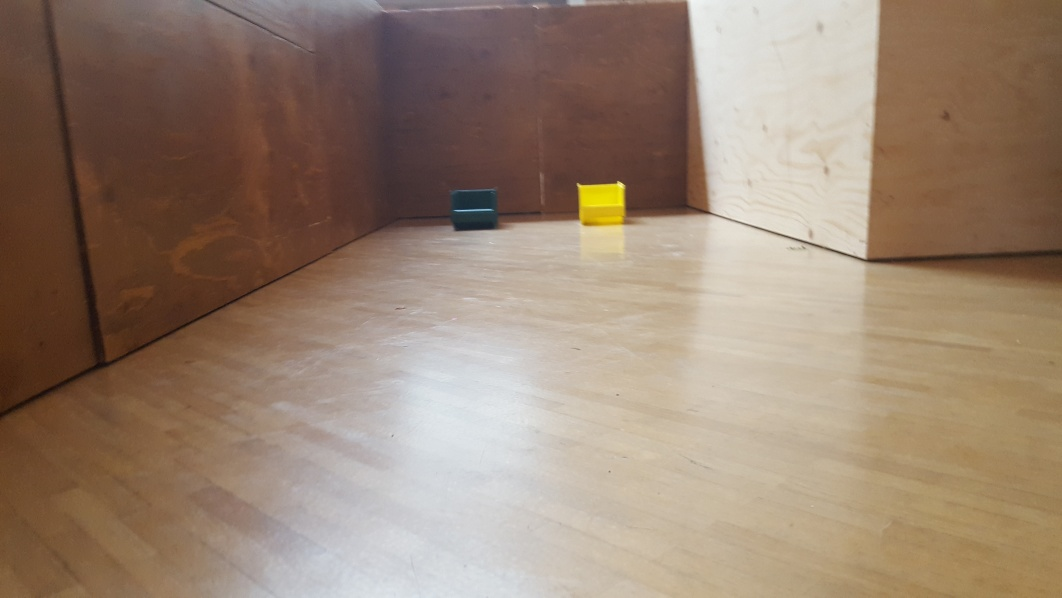tray: (566, 177, 629, 224), (447, 185, 497, 230)
